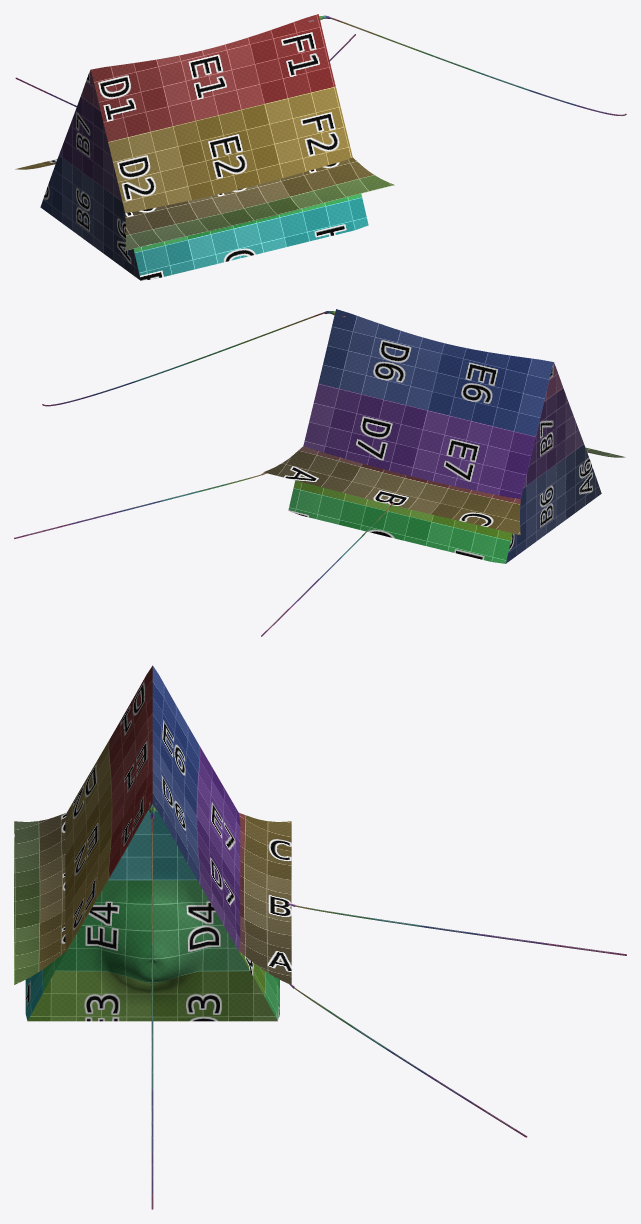
File: tent1_1953.glb
3 renders of one model, top to bottom at view 1: azimuth 30°, elevation 25°; view 2: azimuth 150°, elevation 25°; view 3: azimuth 270°, elevation 25°, orthographic. The views are drawn at different scales.
Parts seen in each view (by area): view 1: ROPE.CACHE.TOP; view 2: ROPE.CACHE.TOP; view 3: ROPE.CACHE.TOP.
Part boxes in pixels (box(x1,y1,x2,y2)): ROPE.CACHE.TOP: box(15, 14, 626, 280); ROPE.CACHE.TOP: box(14, 309, 625, 636); ROPE.CACHE.TOP: box(14, 665, 626, 1209).
Size of the model in its own units: 4.41 by 1.34 by 3.37.
1 material, 1 textured.
